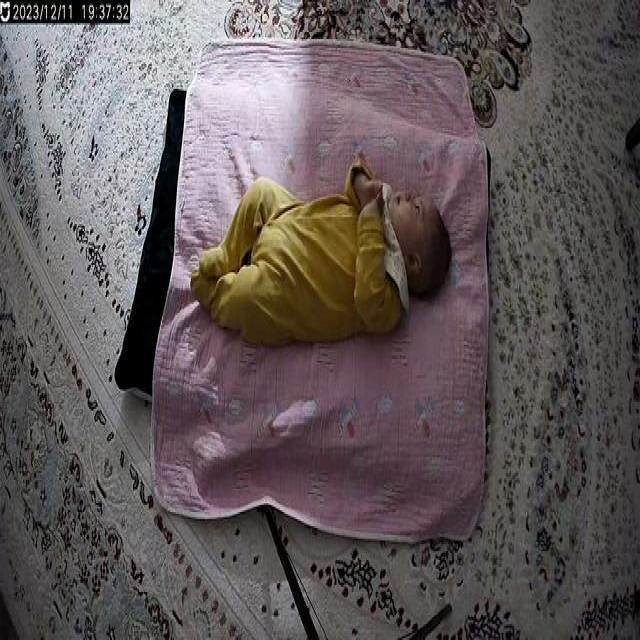baby: (187, 155, 451, 354)
